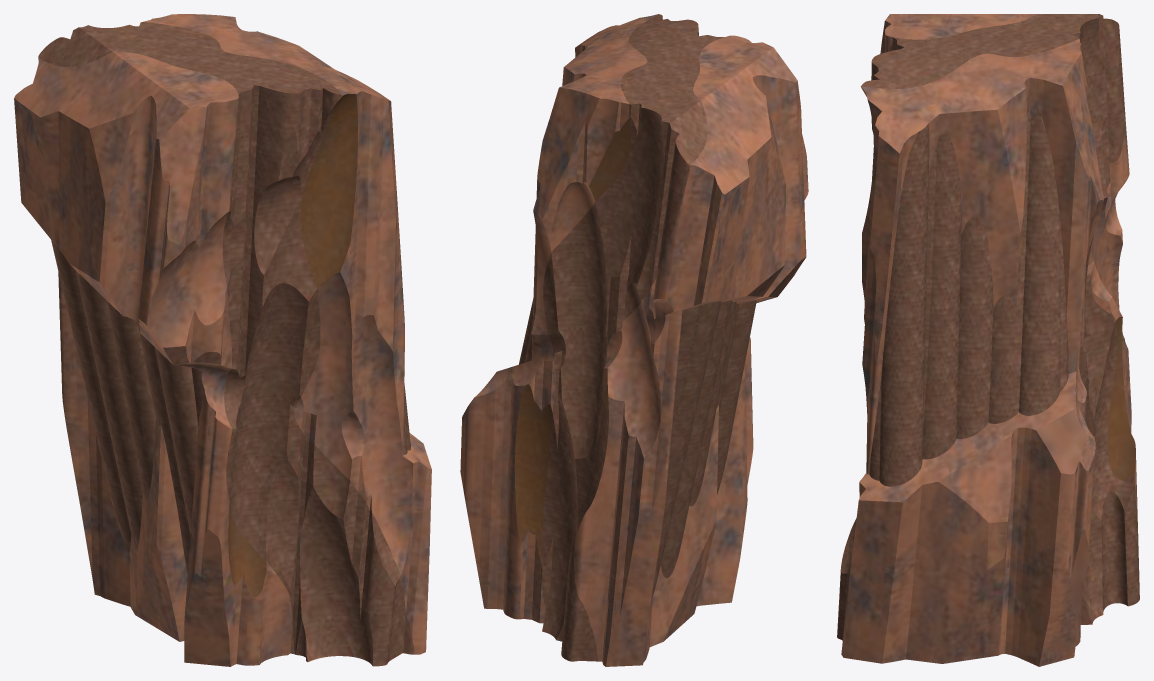
The model's file is Model for AR 2.glb.
The picture shows the model from 3 angles, left to right: view 1: azimuth 30°, elevation 25°; view 2: azimuth 150°, elevation 25°; view 3: azimuth 270°, elevation 25°; orthographic projection. The views are drawn at different scales.
Visible parts, largest first — view 1: Texture 1(1F93FD13-A807-41B1-AF06-028608F832A3), Texture 2(0EDCB0F6-3861-488A-977A-A18738BB6E0D), Texture 3(BC1E45E6-1DB3-4B87-8D38-84B023F86C4D), Texture 4(F22EBD11-281E-44D1-A0C1-CBCD33C69AE3), Texture 4(6EAD6B7C-80AD-4F44-A612-3C149C736C10); view 2: Texture 1(1F93FD13-A807-41B1-AF06-028608F832A3), Texture 2(0EDCB0F6-3861-488A-977A-A18738BB6E0D), Texture 3(BC1E45E6-1DB3-4B87-8D38-84B023F86C4D), Texture 4(EE87DE56-9BE6-4DF3-8BDF-5588BAF626E6), Texture 4(C8E512D0-5D56-4510-A63B-F8DE34455F7F); view 3: Texture 1(1F93FD13-A807-41B1-AF06-028608F832A3), Texture 3(14466C3B-0CEB-458F-AC2D-BE8BF8F2187F), Texture 2(0EDCB0F6-3861-488A-977A-A18738BB6E0D), Texture 4(1C8F1F8C-21AB-40D4-A53F-7F5F071D7A9A).
Part boxes in pixels (<box>): Texture 1(1F93FD13-A807-41B1-AF06-028608F832A3): <box>14,14,431,666</box>; Texture 2(0EDCB0F6-3861-488A-977A-A18738BB6E0D): <box>38,22,414,666</box>; Texture 3(BC1E45E6-1DB3-4B87-8D38-84B023F86C4D): <box>51,240,204,573</box>; Texture 4(F22EBD11-281E-44D1-A0C1-CBCD33C69AE3): <box>300,94,357,287</box>; Texture 4(6EAD6B7C-80AD-4F44-A612-3C149C736C10): <box>228,510,266,597</box>; Texture 1(1F93FD13-A807-41B1-AF06-028608F832A3): <box>460,14,808,666</box>; Texture 2(0EDCB0F6-3861-488A-977A-A18738BB6E0D): <box>540,14,723,661</box>; Texture 3(BC1E45E6-1DB3-4B87-8D38-84B023F86C4D): <box>653,300,756,594</box>; Texture 4(EE87DE56-9BE6-4DF3-8BDF-5588BAF626E6): <box>515,384,552,561</box>; Texture 4(C8E512D0-5D56-4510-A63B-F8DE34455F7F): <box>588,118,631,201</box>; Texture 1(1F93FD13-A807-41B1-AF06-028608F832A3): <box>841,14,1137,666</box>; Texture 3(14466C3B-0CEB-458F-AC2D-BE8BF8F2187F): <box>869,95,1068,486</box>; Texture 2(0EDCB0F6-3861-488A-977A-A18738BB6E0D): <box>837,14,1139,640</box>; Texture 4(1C8F1F8C-21AB-40D4-A53F-7F5F071D7A9A): <box>1107,316,1135,479</box>.
Bounding box in the file's own units: 0.1671 × 0.3048 × 0.1532.
10 materials, 10 textured.
